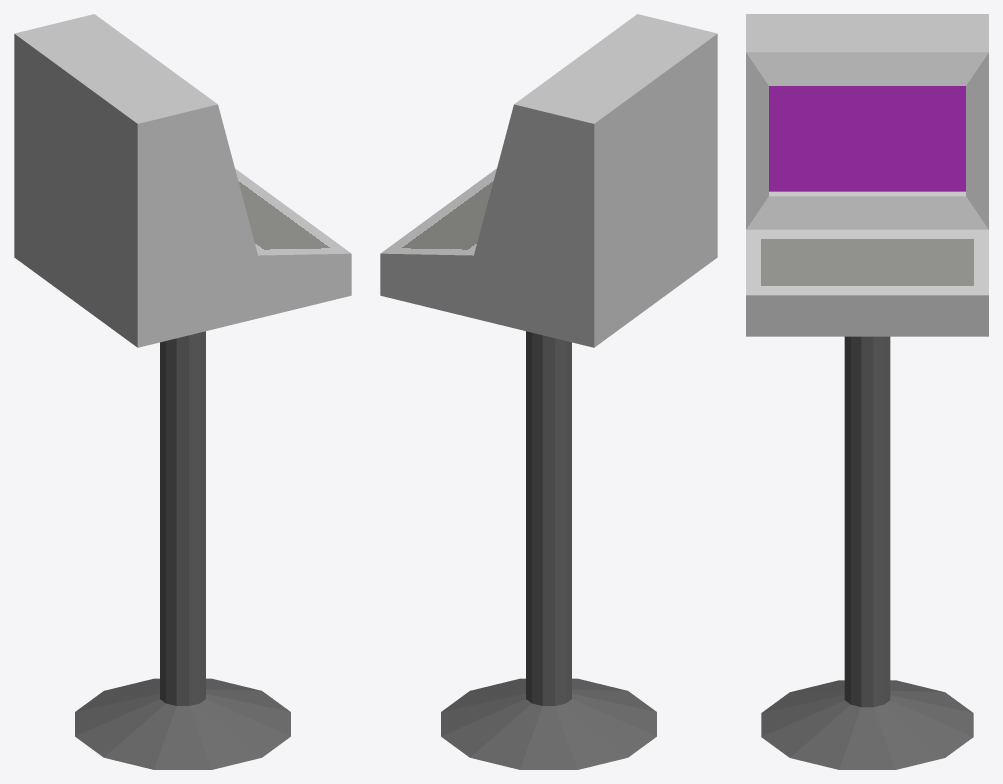
Rendered from terminal.gltf.
3 renders of one model, left to right at view 1: azimuth 30°, elevation 25°; view 2: azimuth 150°, elevation 25°; view 3: azimuth 270°, elevation 25°, orthographic.
Visible parts, largest first — view 1: terminal; view 2: terminal; view 3: terminal, mesh_selection.
Boxes of the visible parts, x1,y1,x2,y2 form: terminal: [14, 14, 351, 769]; terminal: [380, 14, 717, 769]; terminal: [746, 14, 988, 769]; mesh_selection: [769, 86, 965, 191].
Size of the model in its own units: 2 by 6 by 2.
2 materials, 2 textured.
